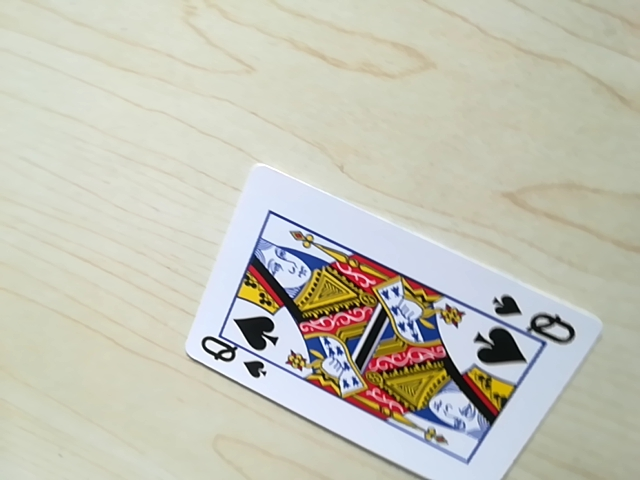ht q: (485, 294, 582, 340), (196, 336, 269, 377)
